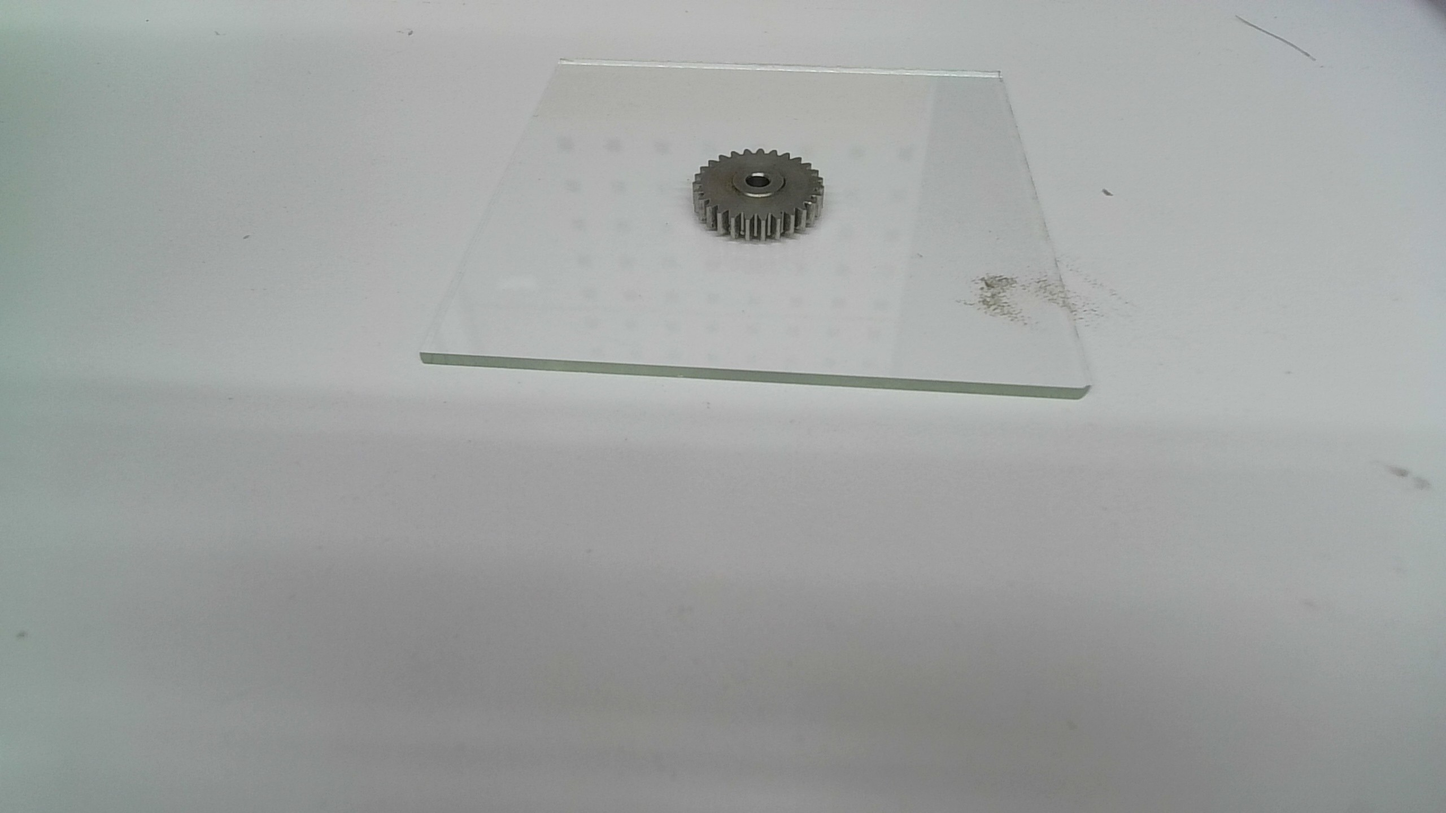gear: (691, 147, 827, 243)
